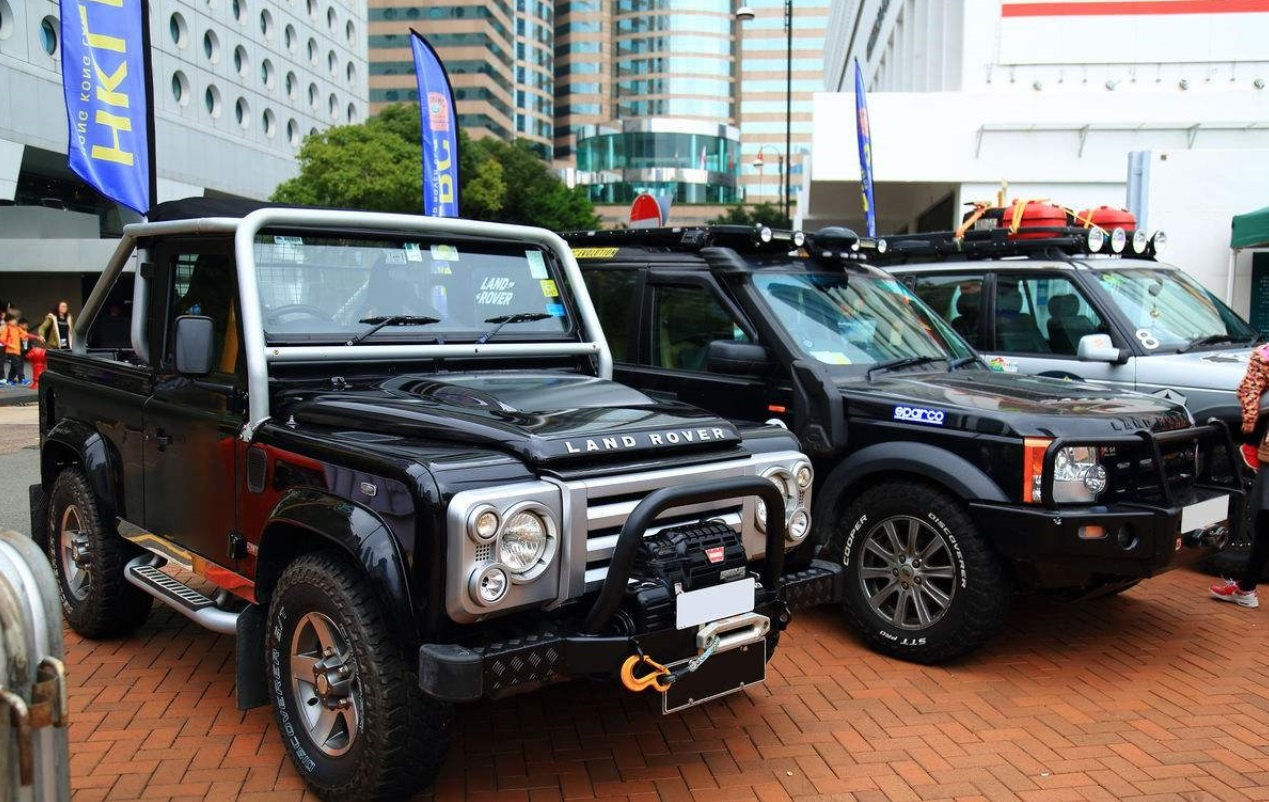jeep: (82, 200, 818, 754), (559, 222, 1195, 654), (887, 248, 1269, 556)
